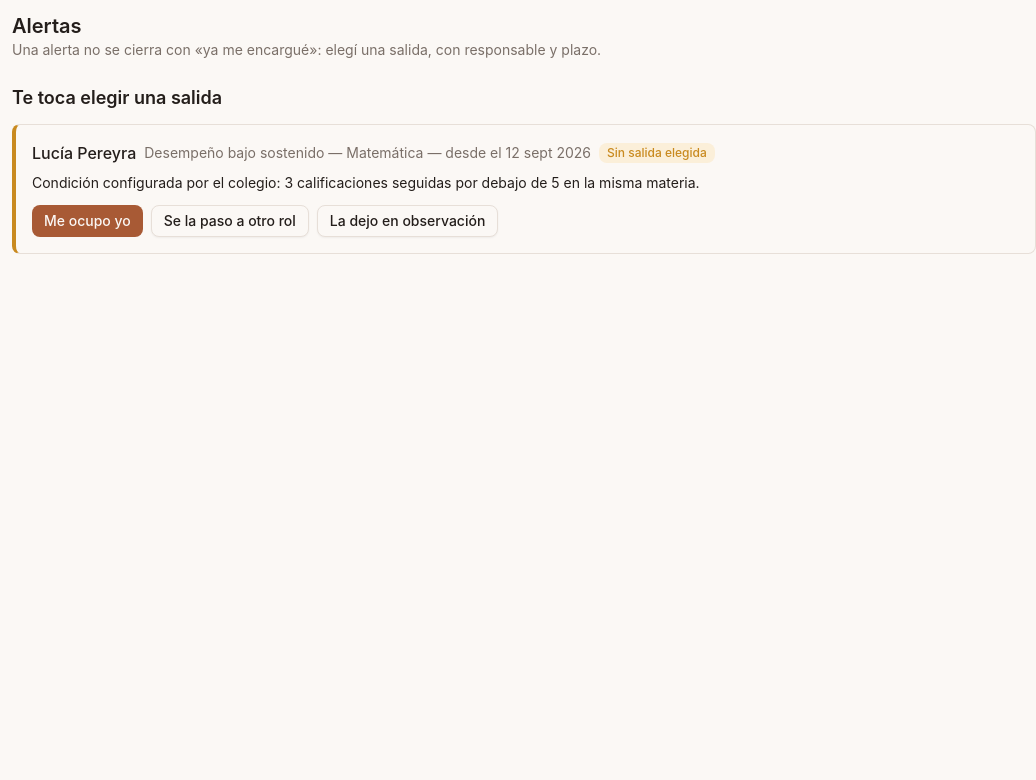
Scenario: AlertsSection › requires choosing who receives it when handing it off
Click the button "Se la paso a otro rol" at (230, 221), box [151,205,309,237]
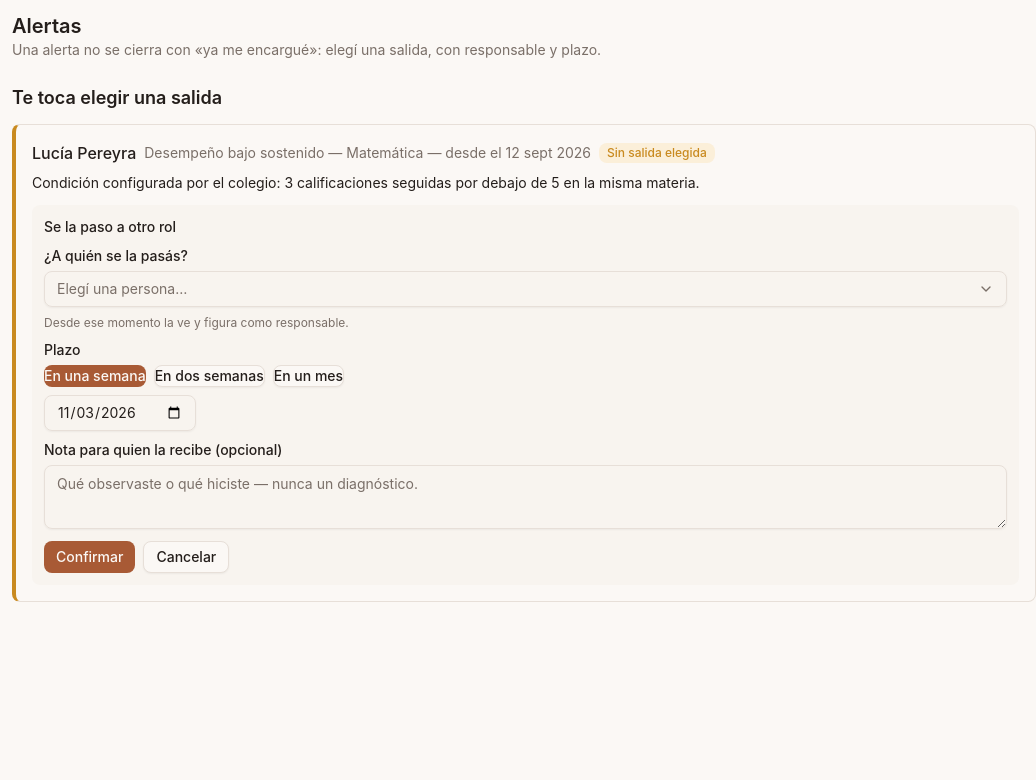
Click the button "Confirmar" at (90, 557), box [44,541,135,573]
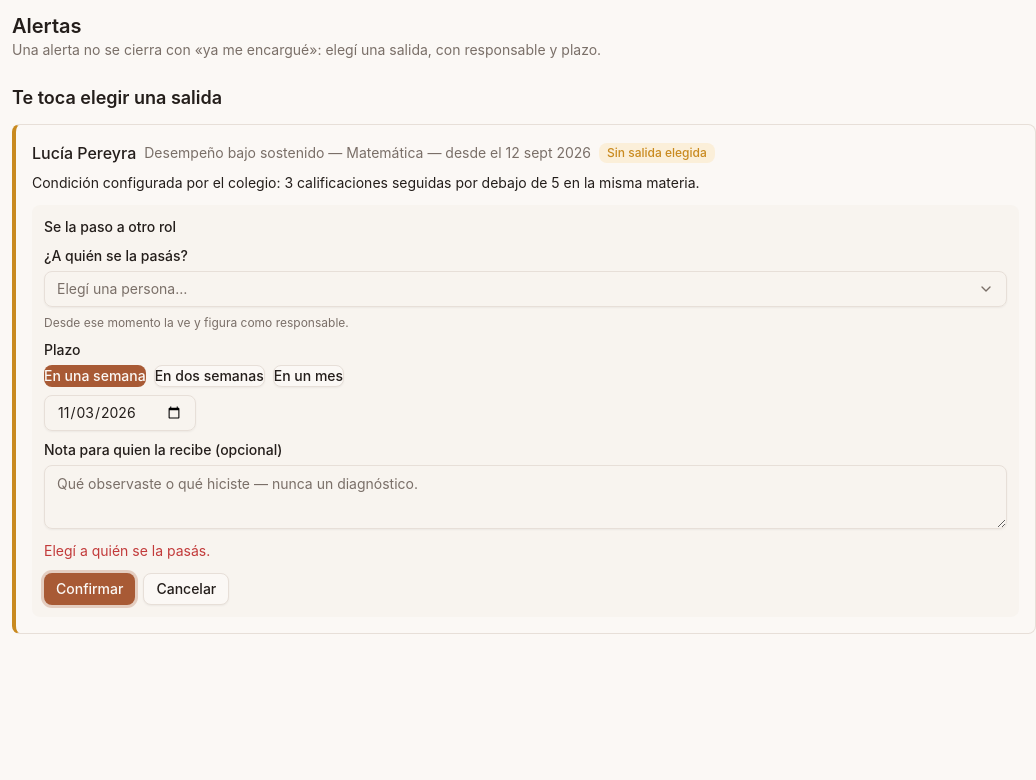
expect the text "Elegí a quién se la pasás." is shown: met, box [44,542,210,559]
